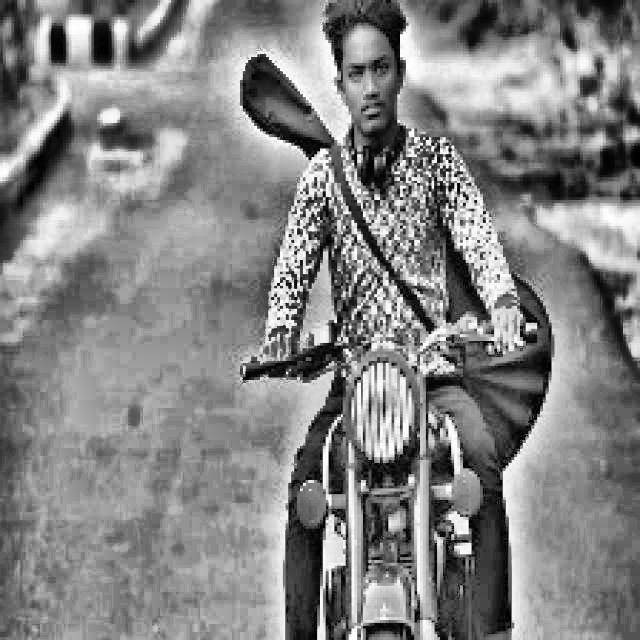motorcycle: (232, 293, 565, 640)
